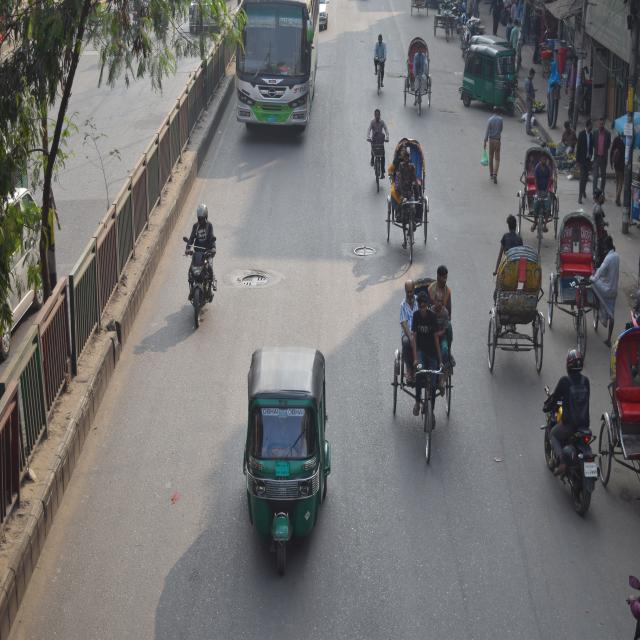bus: (234, 0, 314, 137)
motorbike: (534, 380, 600, 510), (176, 223, 220, 332)
